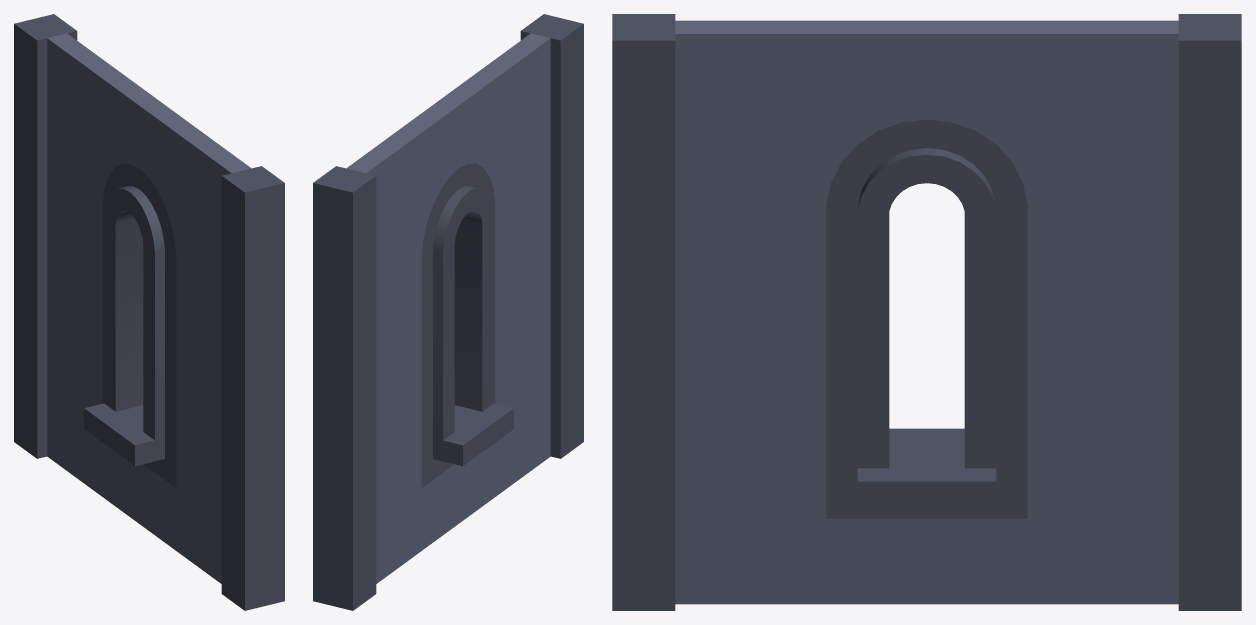
The model's file is wall-wood-window-round.glb.
3 renders of one model, left to right at view 1: azimuth 30°, elevation 25°; view 2: azimuth 150°, elevation 25°; view 3: azimuth 270°, elevation 25°, orthographic. The views are drawn at different scales.
Visible parts, largest first — view 1: wall-wood-window-round; view 2: wall-wood-window-round; view 3: wall-wood-window-round.
Boxes of the visible parts, x1,y1,x2,y2 form: wall-wood-window-round: (14,14,284,610); wall-wood-window-round: (313,14,583,610); wall-wood-window-round: (612,14,1241,610).
Bounding box in the file's own units: 0.2 × 1 × 1.
1 material, 1 textured.
